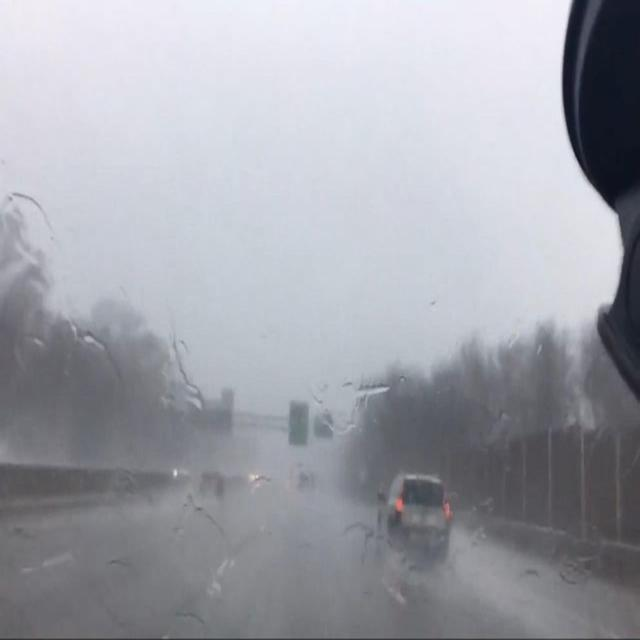car: (382, 471, 450, 564), (196, 465, 224, 500)
